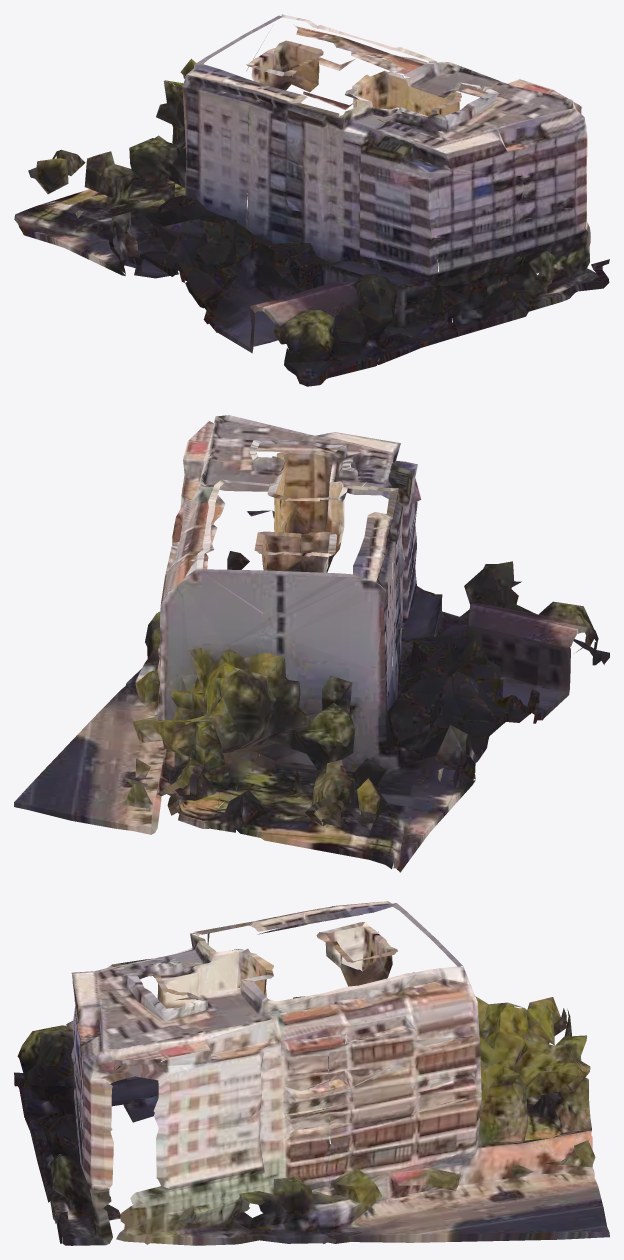
3 views of the same model, one above another, from view 1: azimuth 30°, elevation 25°; view 2: azimuth 150°, elevation 25°; view 3: azimuth 270°, elevation 25° (orthographic). The views are drawn at different scales.
Visible parts, largest first — view 1: Mesh_0; view 2: Mesh_0; view 3: Mesh_0.
Part boxes in pixels (x1,y1,x2,y2): Mesh_0: (14,14,609,386); Mesh_0: (14,415,609,872); Mesh_0: (14,901,609,1245).
Bounding box in the file's own units: 66.59 × 33.71 × 82.39.
Materials: 1 (1 with a texture image).
